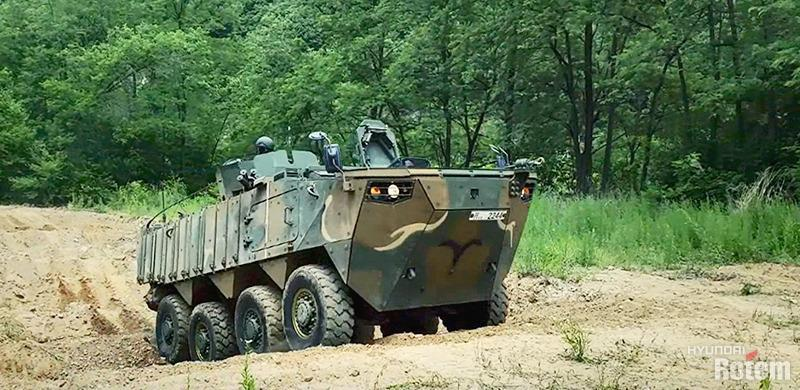MIL_IFV: (138, 118, 548, 369)
